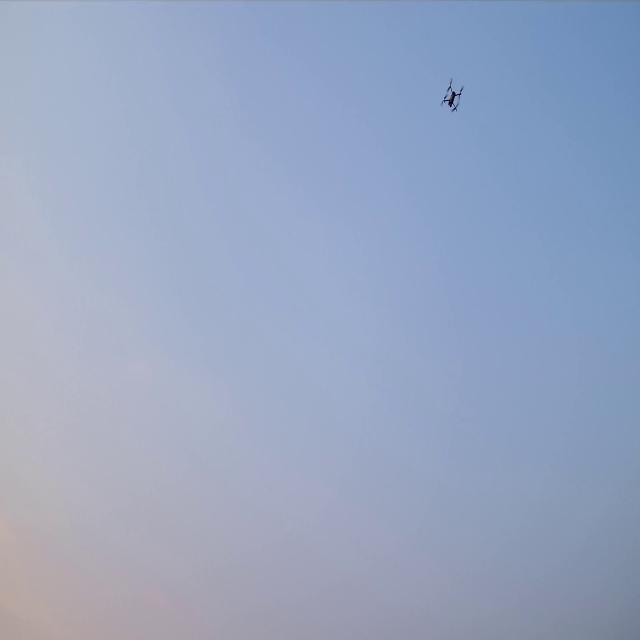UAV: (443, 83, 461, 110)
